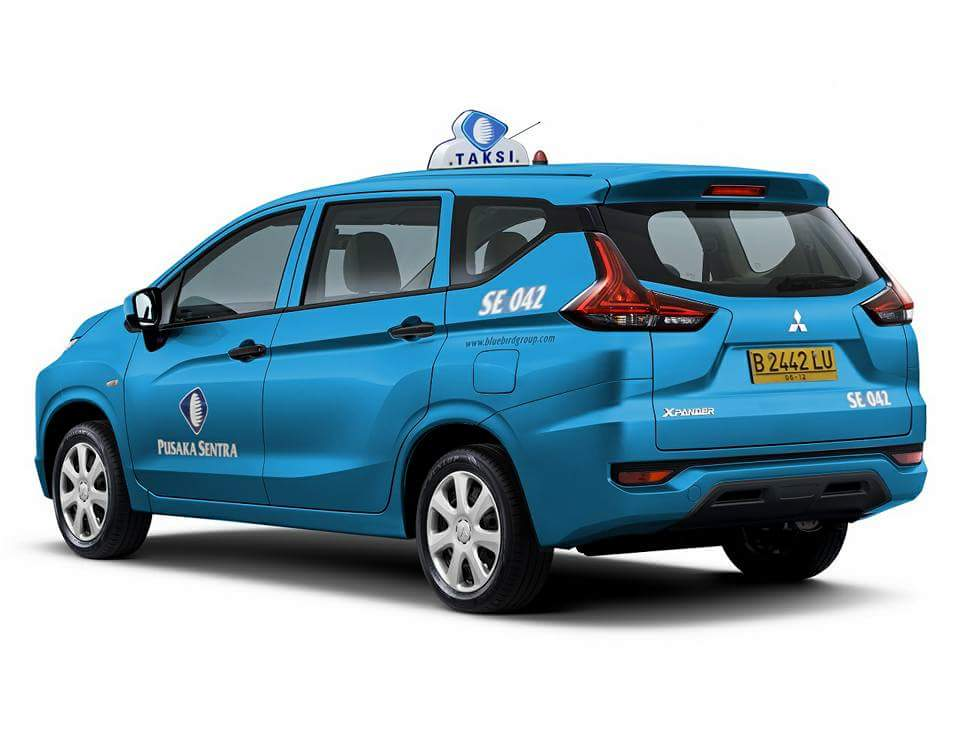plate: (748, 342, 832, 377)
